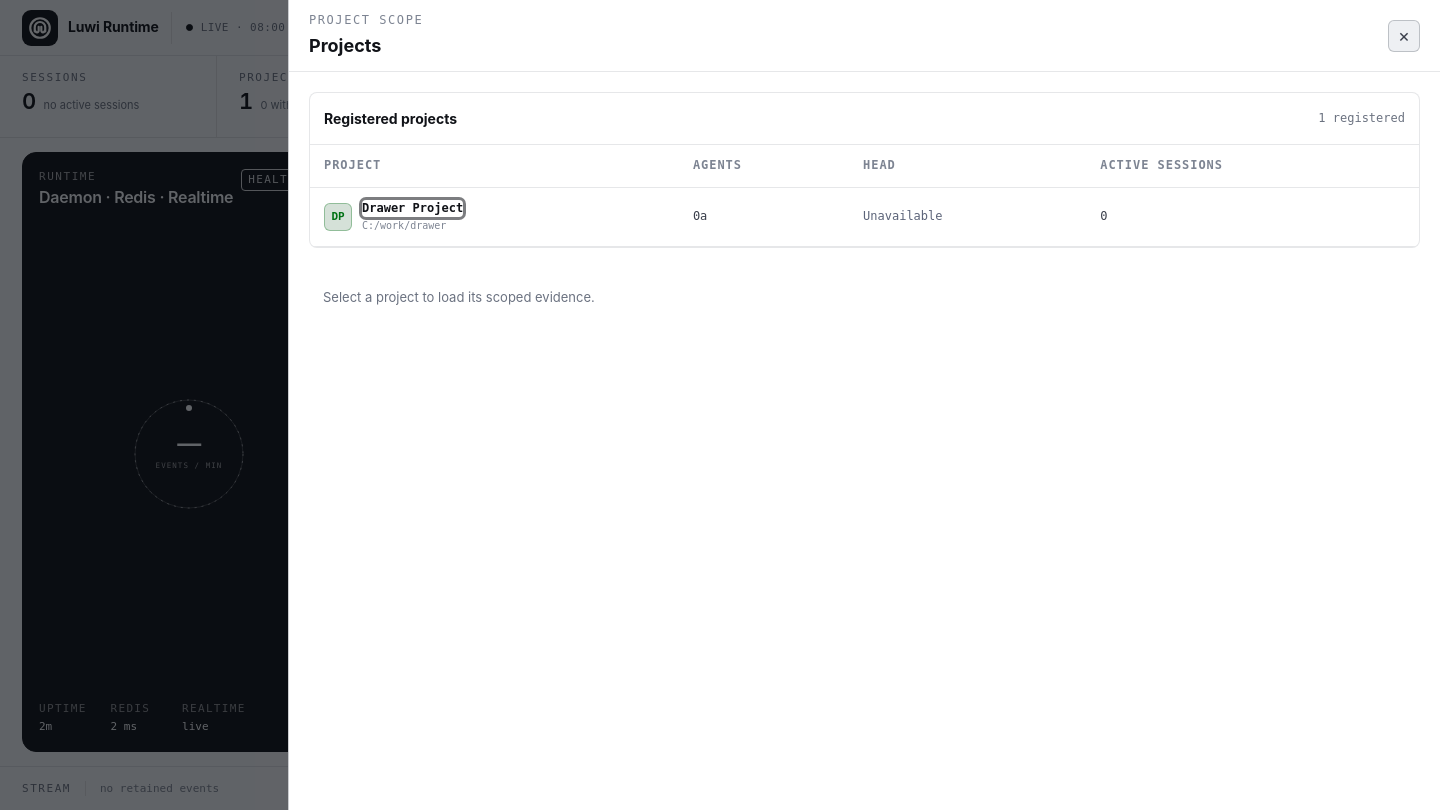
it: project evidence drawer › closes on Escape back to the registry drawer, which takes focus again
Step 1. Click the button "Drawer Project" → click(413, 209), box left=362, top=200, right=463, bottom=217
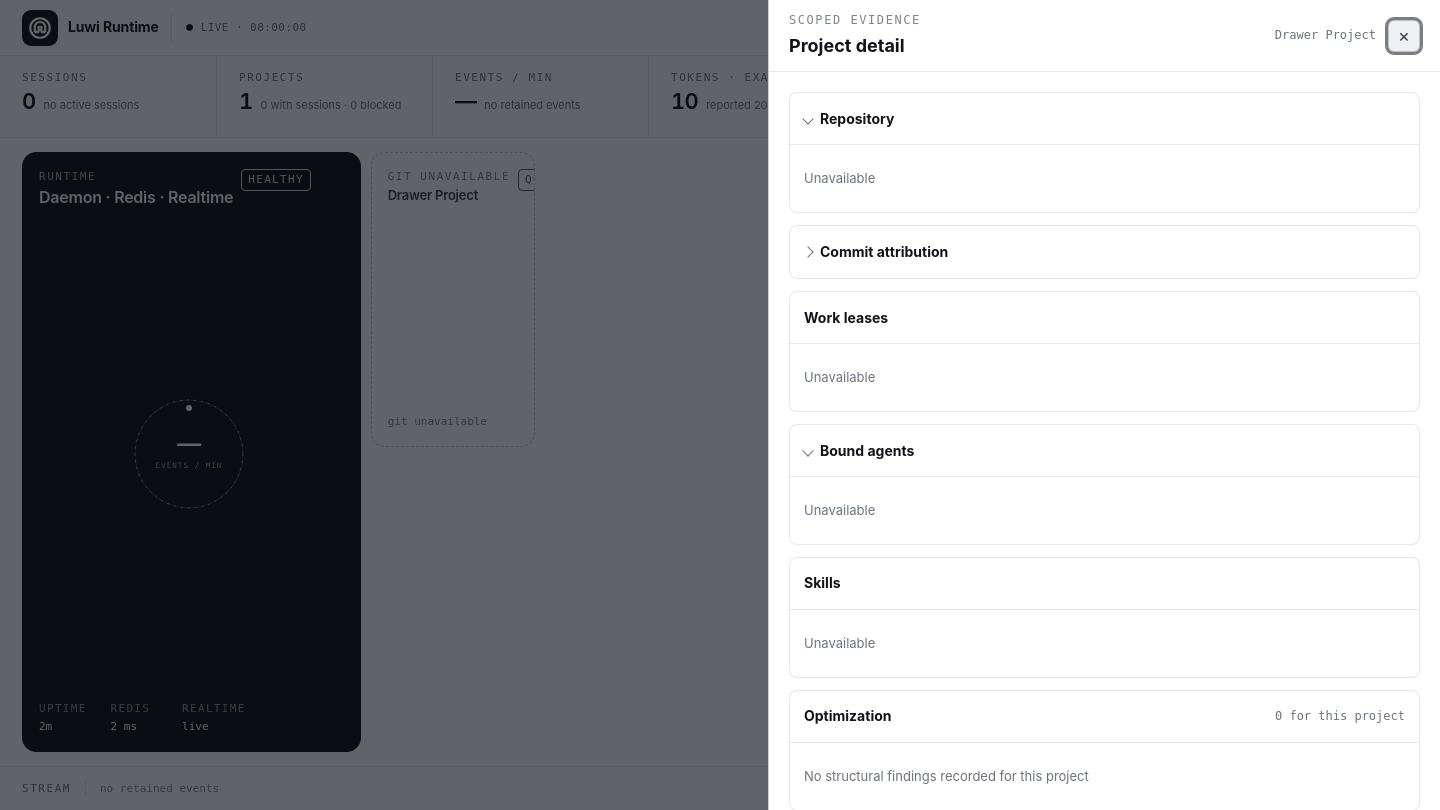
Step 2. Press Escape in the dialog "Project detail", box left=768, top=0, right=1439, bottom=809
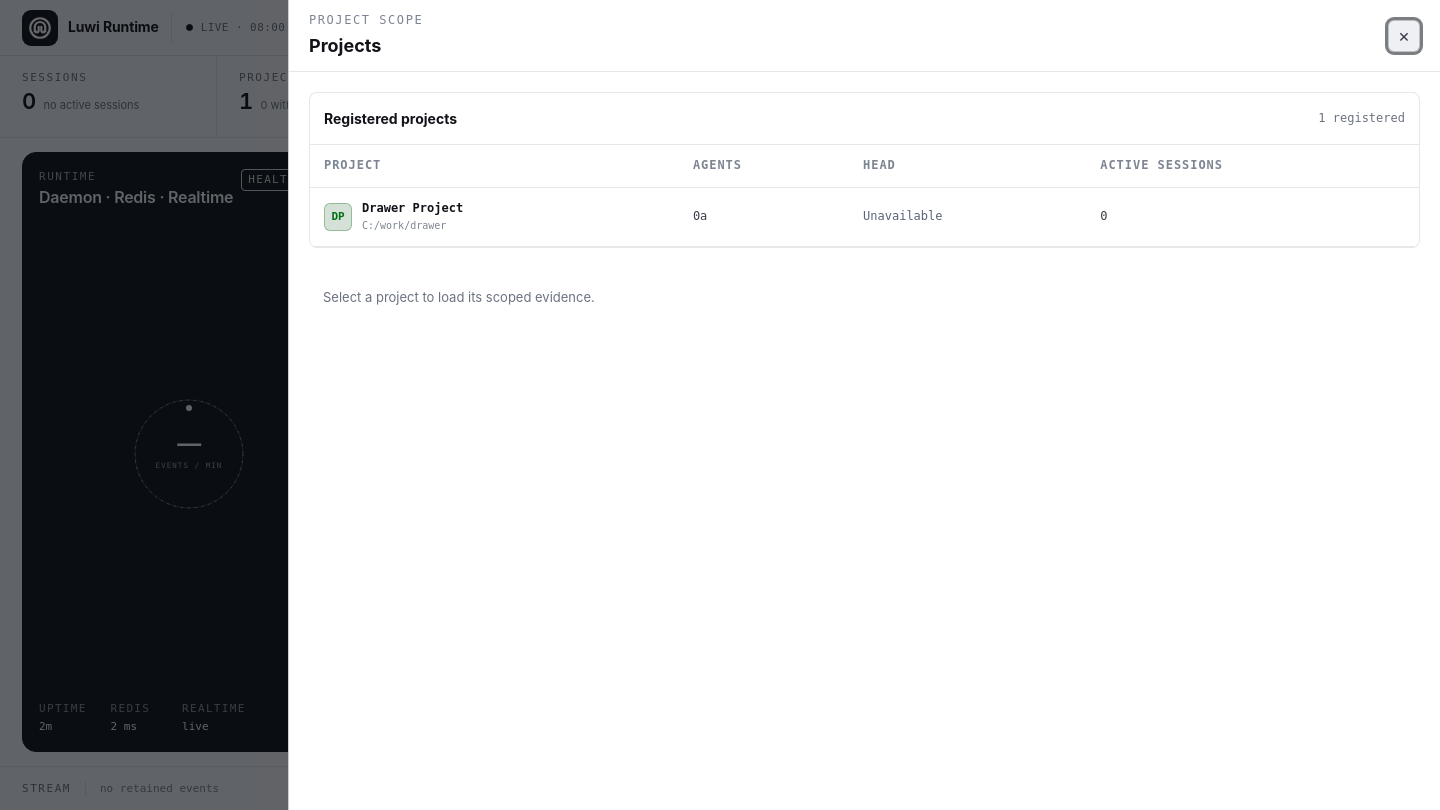
Check: the heading "Project detail" is gone
